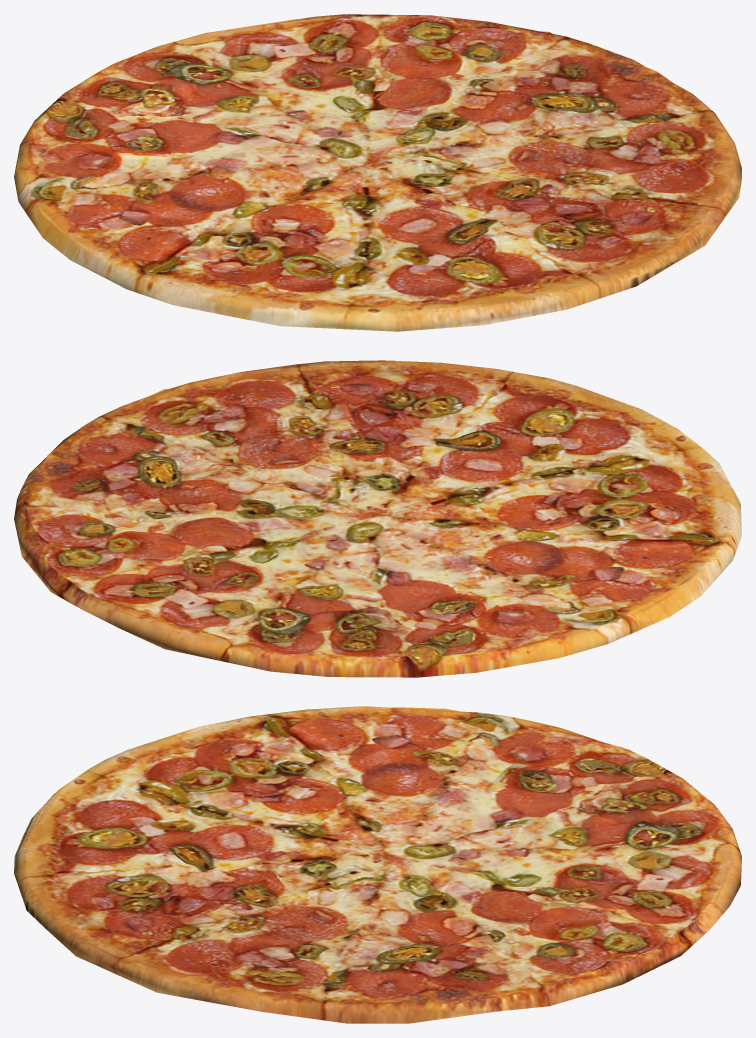
File: Pizza.FBX
The picture shows the model from 3 angles, top to bottom: view 1: azimuth 30°, elevation 25°; view 2: azimuth 150°, elevation 25°; view 3: azimuth 270°, elevation 25°; orthographic projection.
Parts seen in each view (by area): view 1: pizza; view 2: pizza; view 3: pizza.
Part boxes in pixels (box(x1,y1,x2,y2)): pizza: box(14, 14, 741, 331); pizza: box(14, 360, 741, 677); pizza: box(14, 706, 741, 1023).
Size of the model in its own units: 25.34 by 0.7776 by 25.35.
1 material, 1 textured.
